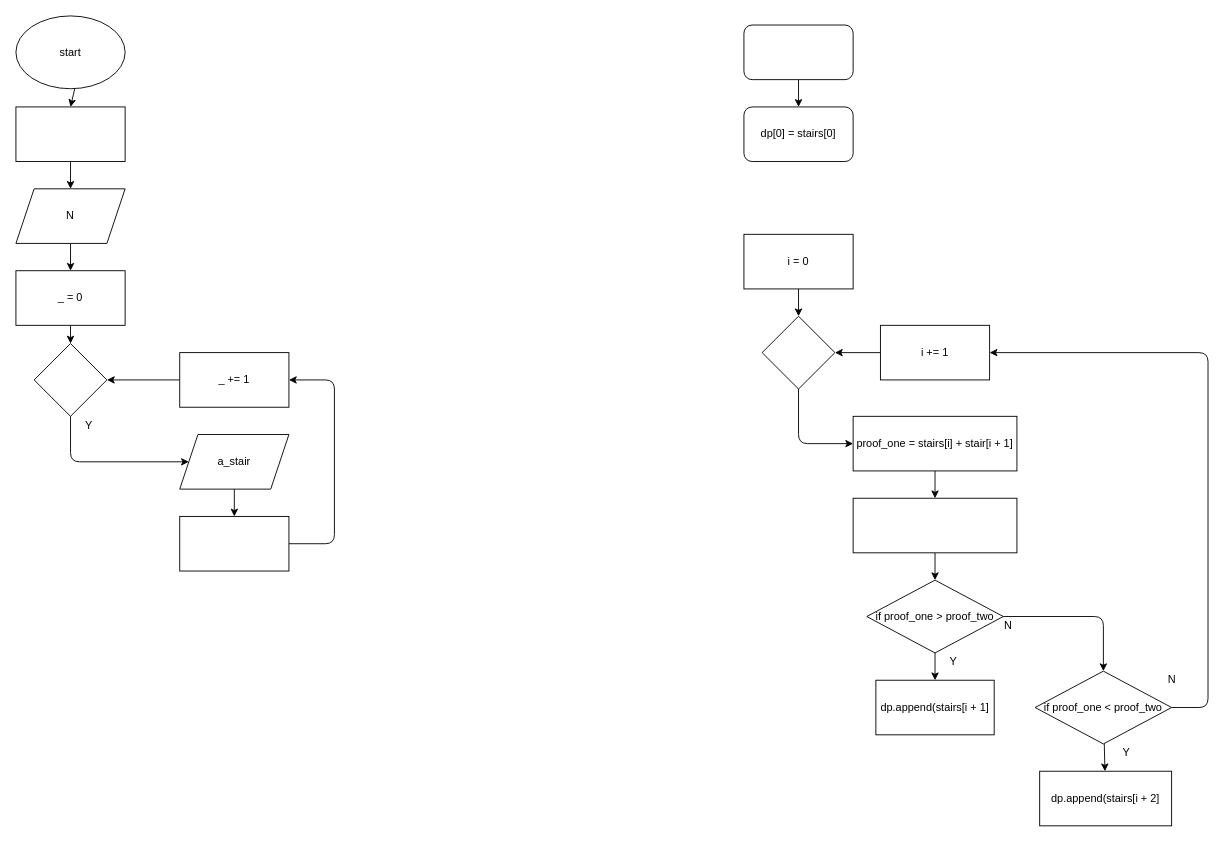
This 1231x842 diagram has some shape labels left out. Here are the shapes that lost their labels. From the top down, the centre of each, then its label:
[798,52]: dp = []
[70,134]: stairs = []
[798,352]: i > N - 2
[70,379]: _ > N
[234,543]: stairs.append(a_stair)
[934,525]: proof_two = stairs[i] + stairs[i + 2]
